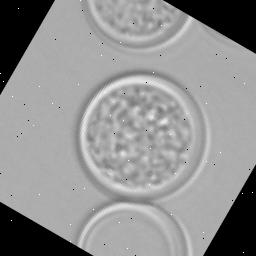picoshell: (78, 73, 210, 198), (76, 202, 193, 256), (85, 0, 194, 52), (201, 22, 242, 46)
